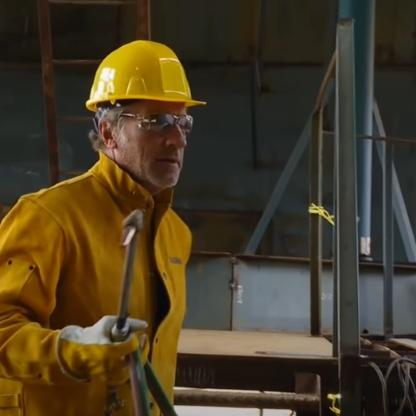helmet: (83, 34, 199, 211)
